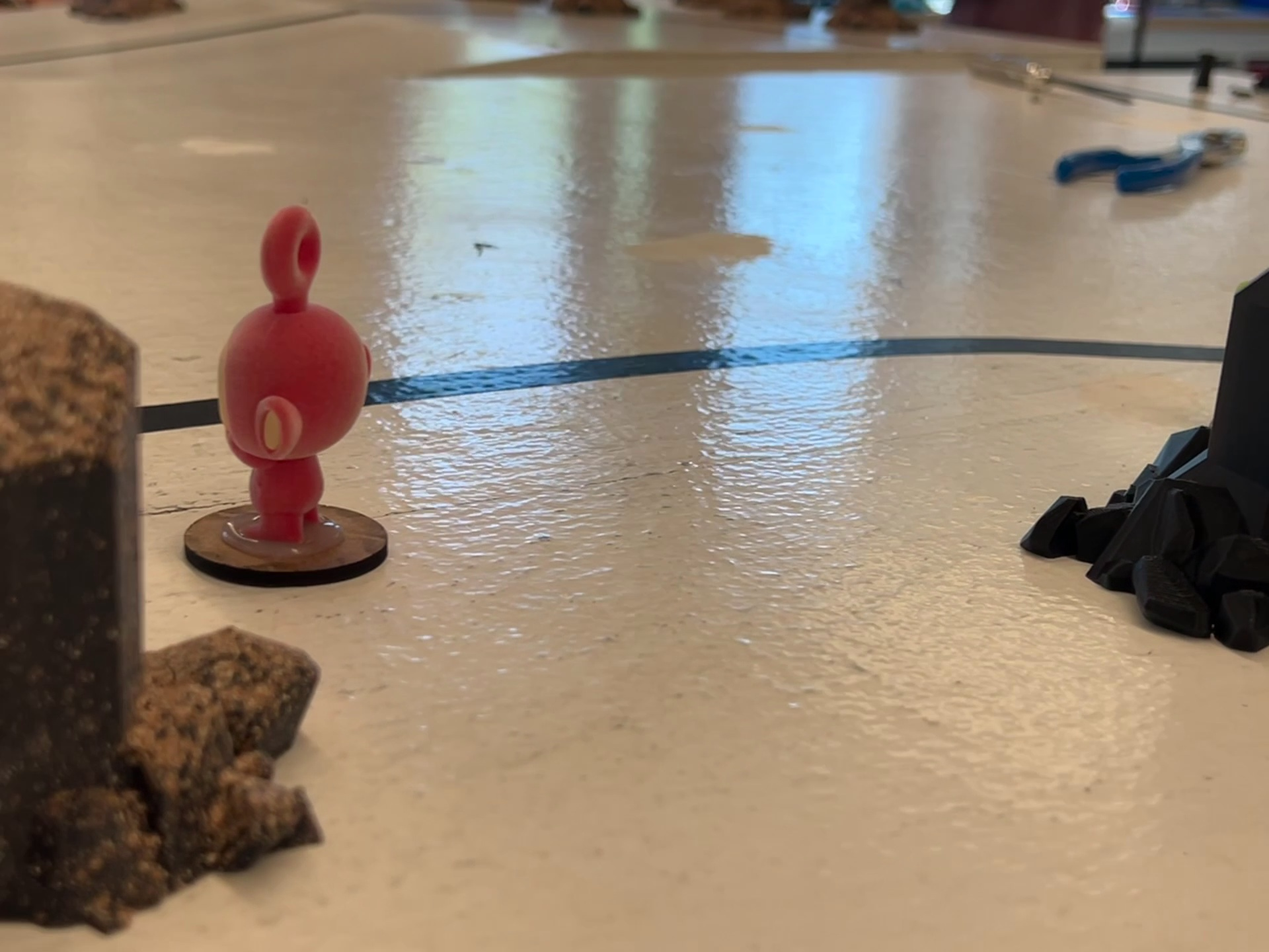teletubby: (218, 206, 371, 543)
